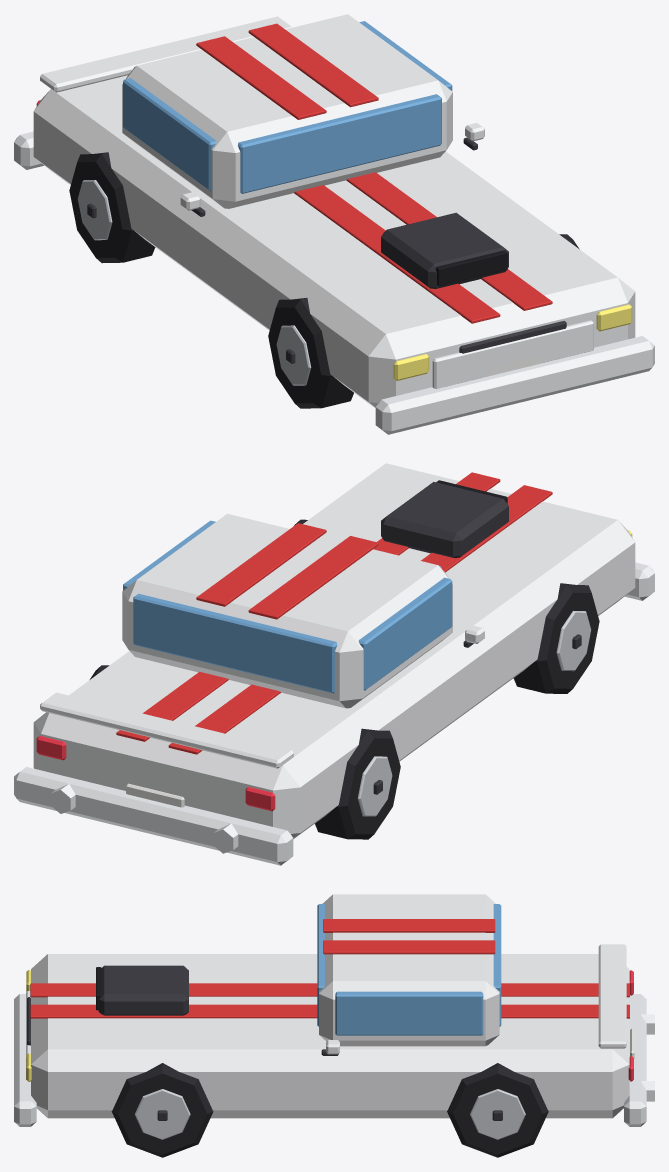
File: WhiteMuscleCar.fbx
The picture shows the model from 3 angles, top to bottom: view 1: azimuth 30°, elevation 25°; view 2: azimuth 150°, elevation 25°; view 3: azimuth 270°, elevation 25°; orthographic projection. The views are drawn at different scales.
Parts seen in each view (by area): view 1: WhiteMuscleCar, WhiteMuscleCar_WheelFR, WhiteMuscleCar_WheelBR; view 2: WhiteMuscleCar, WhiteMuscleCar_WheelBR, WhiteMuscleCar_WheelFR; view 3: WhiteMuscleCar, WhiteMuscleCar_WheelBL, WhiteMuscleCar_WheelFL.
Part boxes in pixels (<box>): WhiteMuscleCar: <box>14,14,654,434</box>; WhiteMuscleCar_WheelFR: <box>268,298,353,408</box>; WhiteMuscleCar_WheelBR: <box>69,152,155,263</box>; WhiteMuscleCar: <box>14,463,654,865</box>; WhiteMuscleCar_WheelBR: <box>315,728,400,839</box>; WhiteMuscleCar_WheelFR: <box>513,583,599,693</box>; WhiteMuscleCar: <box>14,894,654,1126</box>; WhiteMuscleCar_WheelBL: <box>447,1063,548,1157</box>; WhiteMuscleCar_WheelFL: <box>111,1063,213,1157</box>.
Bounding box in the file's own units: 5.15 × 3.28 × 11.35.
1 material, 1 textured.
